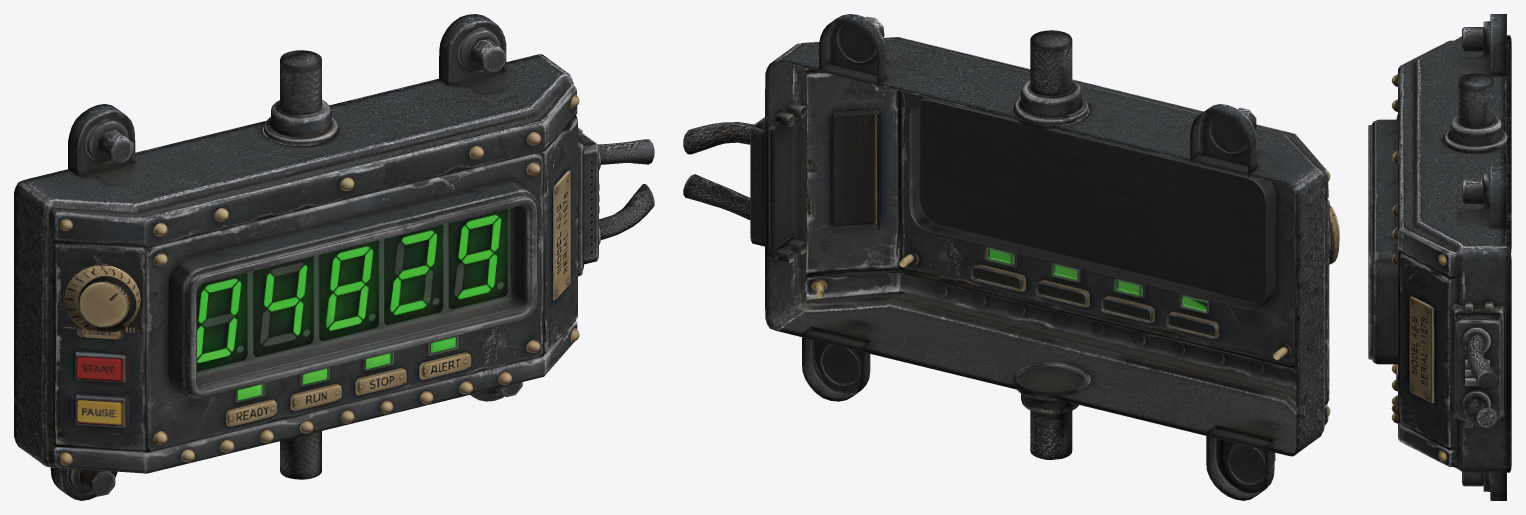
The model's file is SM_CountdownTimer.fbx.
The picture shows the model from 3 angles, left to right: view 1: azimuth 30°, elevation 25°; view 2: azimuth 150°, elevation 25°; view 3: azimuth 270°, elevation 25°; orthographic projection. The views are drawn at different scales.
Parts seen in each view (by area): view 1: tripo_5fb230d2_6533_4b85_85e3_cd547244873c; view 2: tripo_5fb230d2_6533_4b85_85e3_cd547244873c; view 3: tripo_5fb230d2_6533_4b85_85e3_cd547244873c.
Boxes of the visible parts, x1,y1,x2,y2 form: tripo_5fb230d2_6533_4b85_85e3_cd547244873c: (14,14,654,500); tripo_5fb230d2_6533_4b85_85e3_cd547244873c: (683,14,1339,500); tripo_5fb230d2_6533_4b85_85e3_cd547244873c: (1368,14,1511,500).
Size of the model in its own units: 0.9995 by 0.6323 by 0.2368.
Materials: 1 (1 with a texture image).
